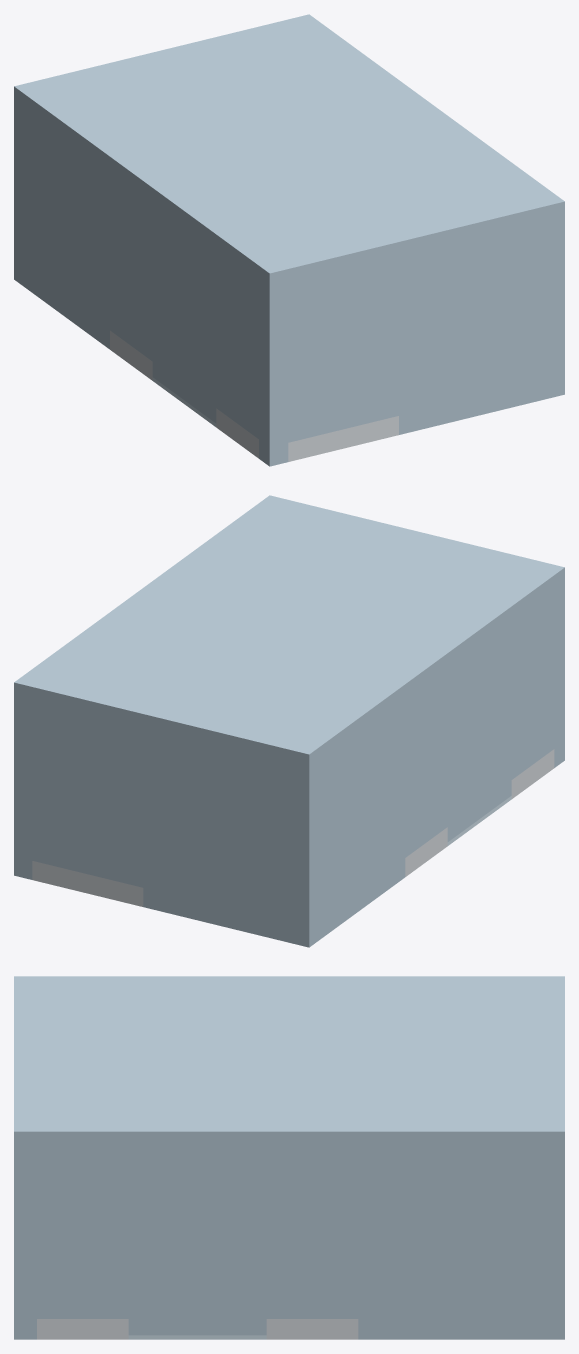
File: frozen-ford-mirror.glb
3 views of the same model, one above another, from view 1: azimuth 30°, elevation 25°; view 2: azimuth 150°, elevation 25°; view 3: azimuth 270°, elevation 25° (orthographic). The views are drawn at different scales.
Visible parts, largest first — view 1: ice-rock_13, ice-rock_8, plug_frozen_west, plug_ice_south, ice-rock_7, ice-rock_10, ice-rock_5, ice-rock_6, ice-rock_3, ice-rock_4, ice-rock_11, ice-rock_1 (+4 smaller); view 2: ice-rock_13, ice-rock_1, plug_frozen_west, plug_ice_north, ice-rock_9, ice-rock_4, ice-rock_3, ice-rock_5, ice-rock_6, ice-rock_2, ice-rock_11, snow_1 (+4 smaller); view 3: ice-rock_13, plug_frozen_east, ice-rock_2, ice-rock_12, ice-rock_8, plug_frozen_east.001, snow_7, snow_11, ice_2.
Part boxes in pixels (x1,y1,x2,y2): ice-rock_13: [14, 14, 564, 292]; ice-rock_8: [399, 221, 564, 434]; plug_frozen_west: [110, 195, 258, 438]; plug_ice_south: [288, 300, 398, 442]; ice-rock_7: [259, 285, 288, 466]; ice-rock_10: [288, 261, 398, 326]; ice-rock_5: [67, 145, 88, 333]; ice-rock_6: [88, 160, 109, 349]; ice-rock_3: [24, 114, 45, 302]; ice-rock_4: [46, 129, 67, 317]; ice-rock_11: [110, 176, 258, 303]; ice-rock_1: [14, 106, 24, 286]; ice-rock_13: [14, 495, 564, 773]; ice-rock_1: [143, 733, 319, 947]; plug_frozen_west: [405, 614, 554, 857]; plug_ice_north: [32, 745, 143, 887]; ice-rock_9: [32, 706, 143, 771]; ice-rock_4: [341, 735, 362, 923]; ice-rock_3: [320, 751, 341, 939]; ice-rock_5: [362, 719, 383, 907]; ice-rock_6: [384, 704, 405, 892]; ice-rock_2: [14, 702, 32, 879]; ice-rock_11: [405, 595, 554, 722]; snow_1: [32, 861, 143, 906]; ice-rock_13: [14, 976, 564, 1152]; plug_frozen_east: [37, 1173, 358, 1318]; ice-rock_2: [358, 1152, 564, 1339]; ice-rock_12: [37, 1152, 358, 1173]; ice-rock_8: [14, 1152, 36, 1339]; plug_frozen_east.001: [128, 1319, 266, 1335]; snow_7: [266, 1319, 358, 1339]; snow_11: [37, 1319, 128, 1339]; ice_2: [128, 1335, 266, 1339].
Bounding box in the file's own units: 8 × 5 × 12.
